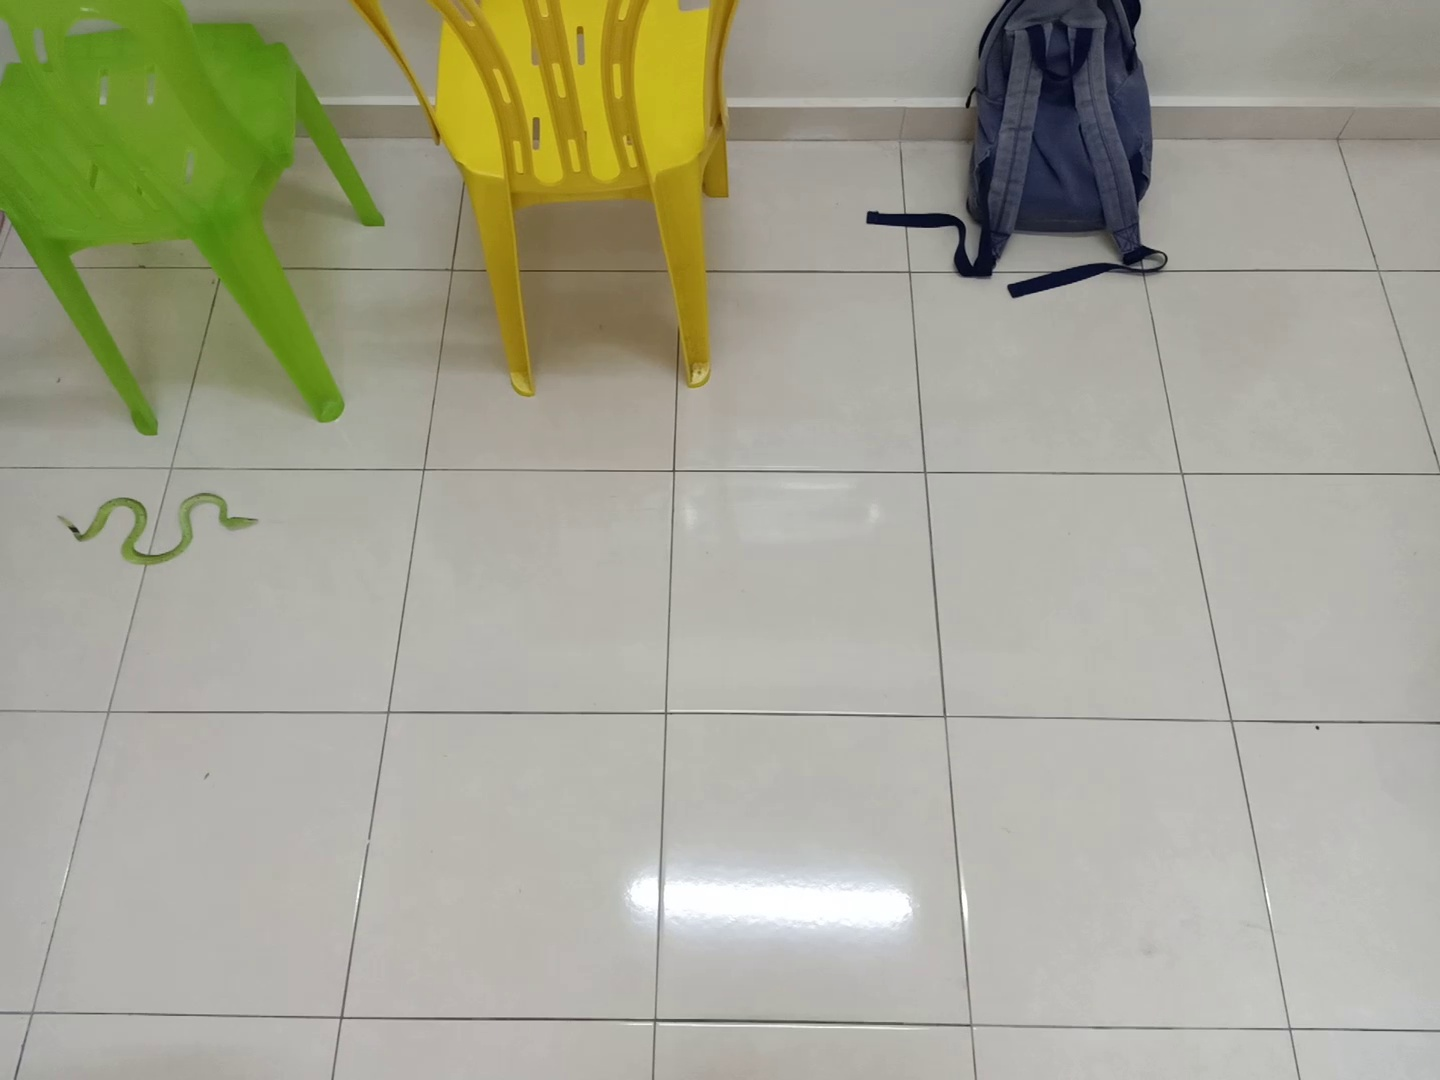snake: (50, 479, 269, 571)
